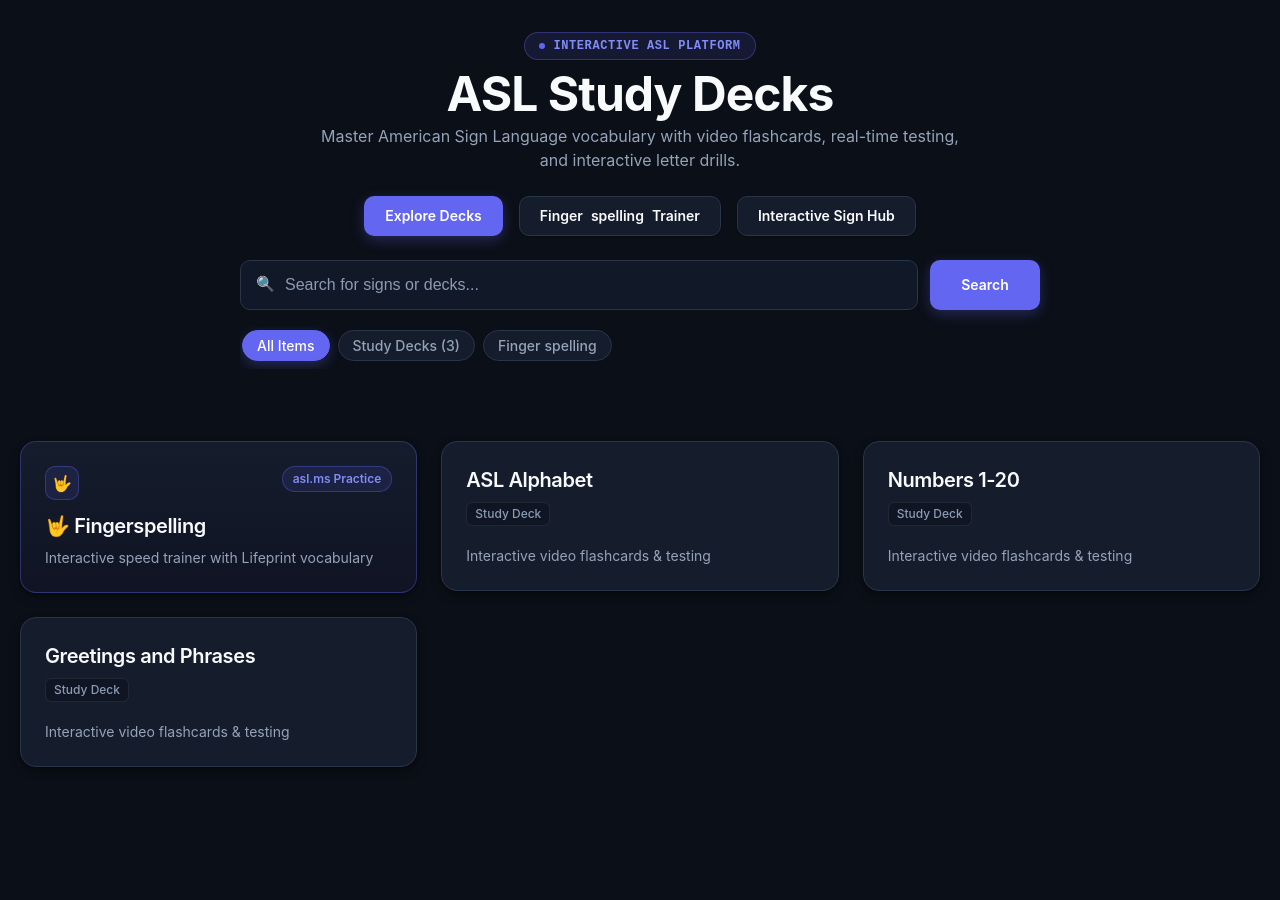
Test: Home Component (Features 11 to 15) › Feature 12: Real-Time Search and Category Filters › clicking category filter pills switches active tab and filters items
Check: the heading "ASL Alphabet" is shown, box top-left (466, 468), bottom-right (593, 492)
Click the tab "Study Decks (3)": (406, 345) top-left (338, 330), bottom-right (475, 360)
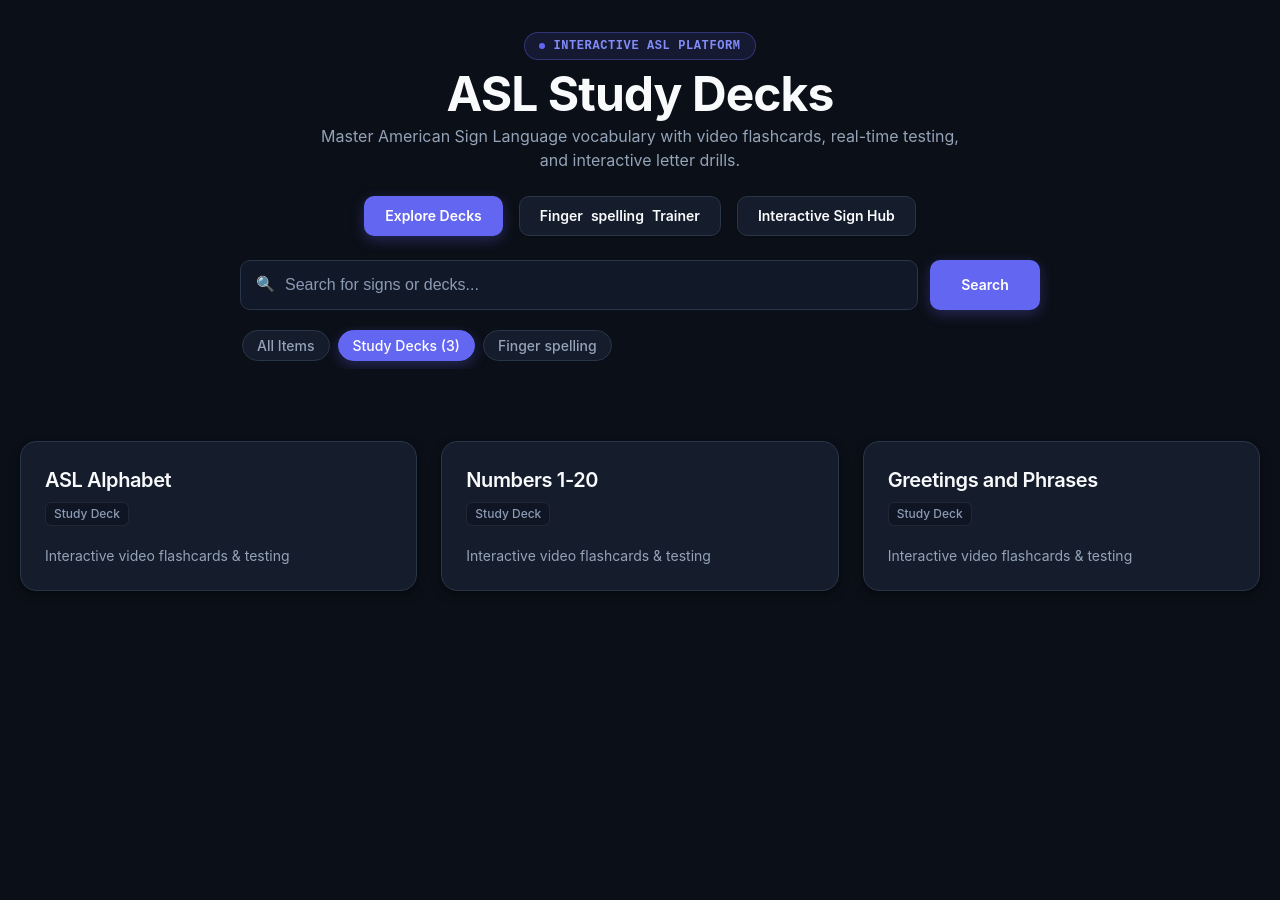
Check: the heading "ASL Alphabet" is shown, box top-left (45, 468), bottom-right (171, 492)
Check: the tab "Study Decks (3)" has class "active", box top-left (338, 330), bottom-right (475, 360)
Click the tab with aria-label "Fingerspelling": (547, 345) top-left (483, 330), bottom-right (612, 360)
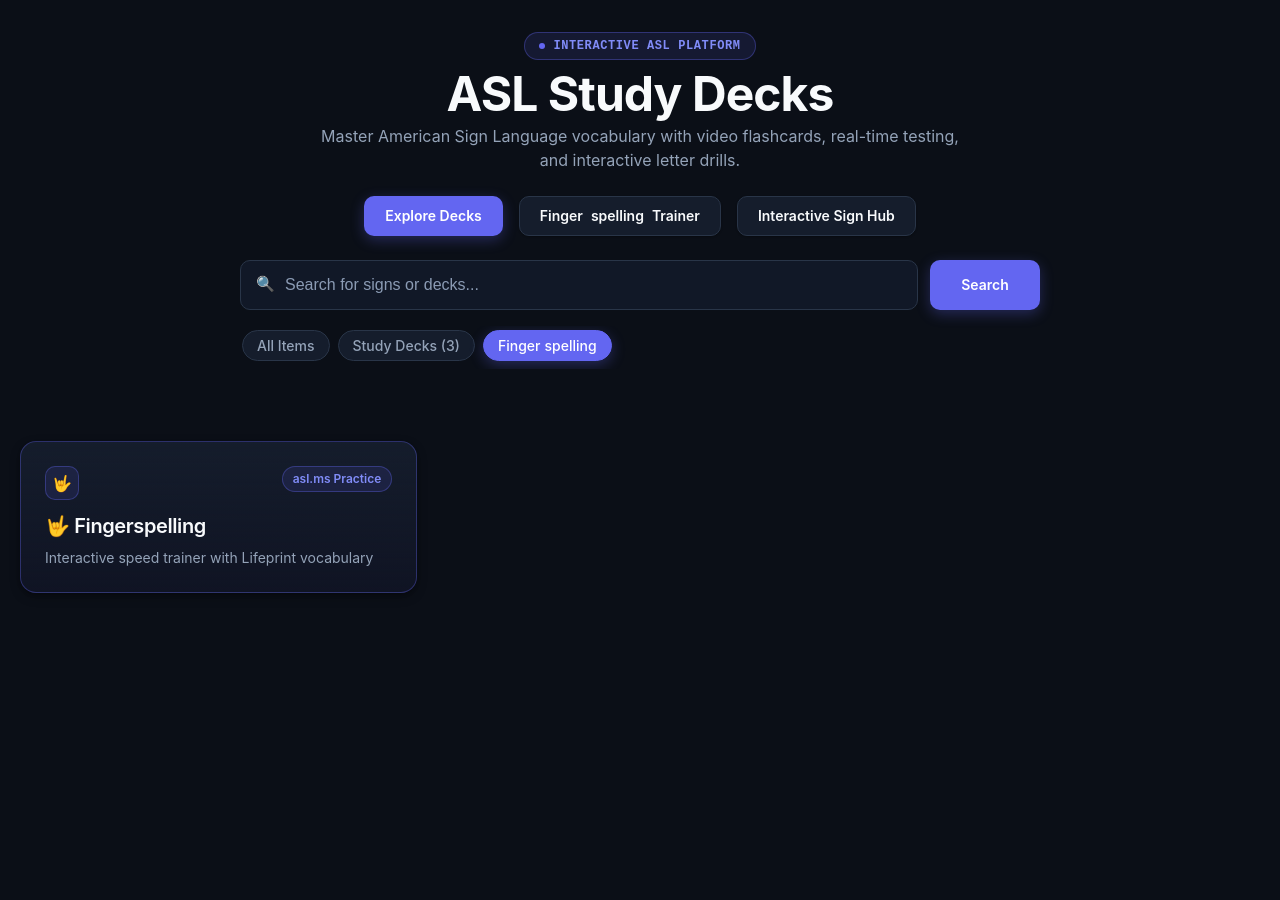
Check: the link "ASL Alphabet" is gone
Check: the heading "🤟 Fingerspelling" is shown, box top-left (45, 514), bottom-right (206, 538)
